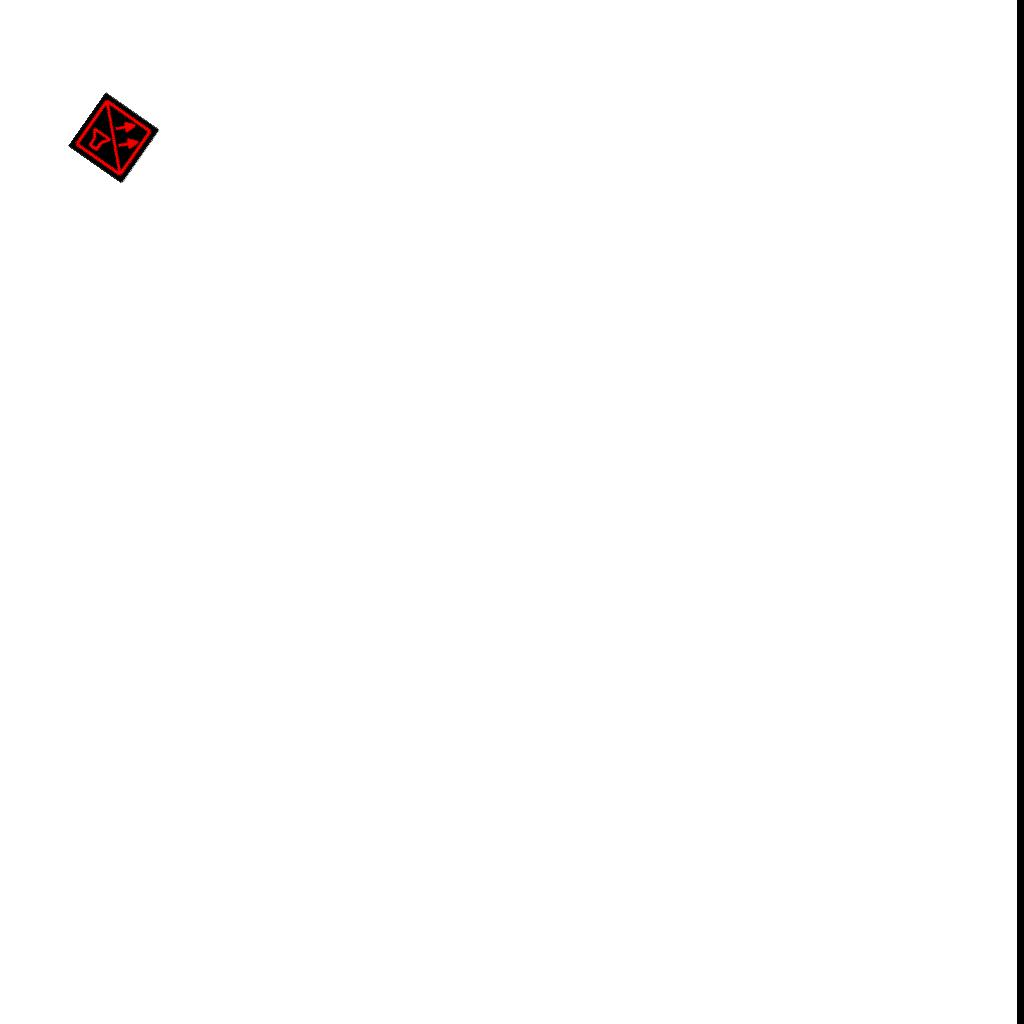OKW_Multisensormelder_(Kombination_optischer_Rauch-Kahlenmonoxid_Waerme-Melder): (68, 92, 160, 184)
